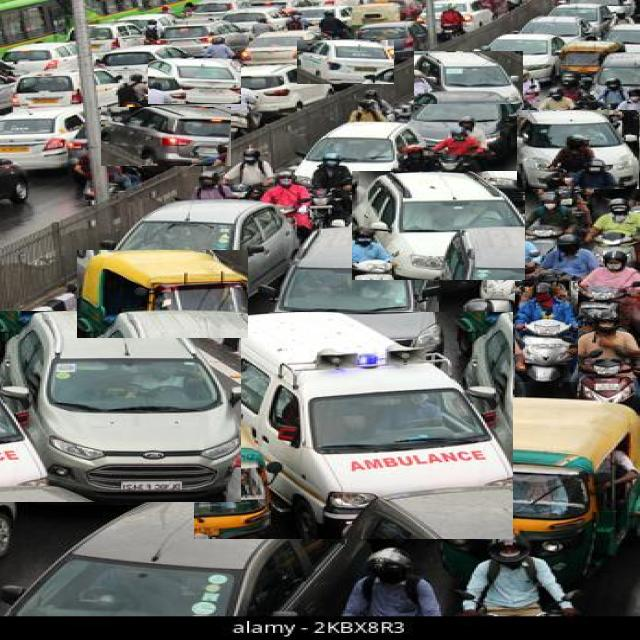autorickshaw: (438, 399, 640, 583), (78, 250, 248, 338)
car: (0, 311, 241, 502), (266, 229, 438, 351), (352, 171, 525, 280), (115, 200, 300, 294), (517, 110, 640, 189), (294, 122, 418, 188), (409, 91, 535, 154), (101, 107, 231, 166), (202, 65, 333, 113), (414, 52, 523, 104), (0, 106, 84, 170), (298, 40, 394, 84), (148, 59, 241, 104)
emergency: (195, 313, 513, 539)
motorcycle: (568, 310, 640, 402), (515, 281, 578, 382), (480, 228, 541, 319)
